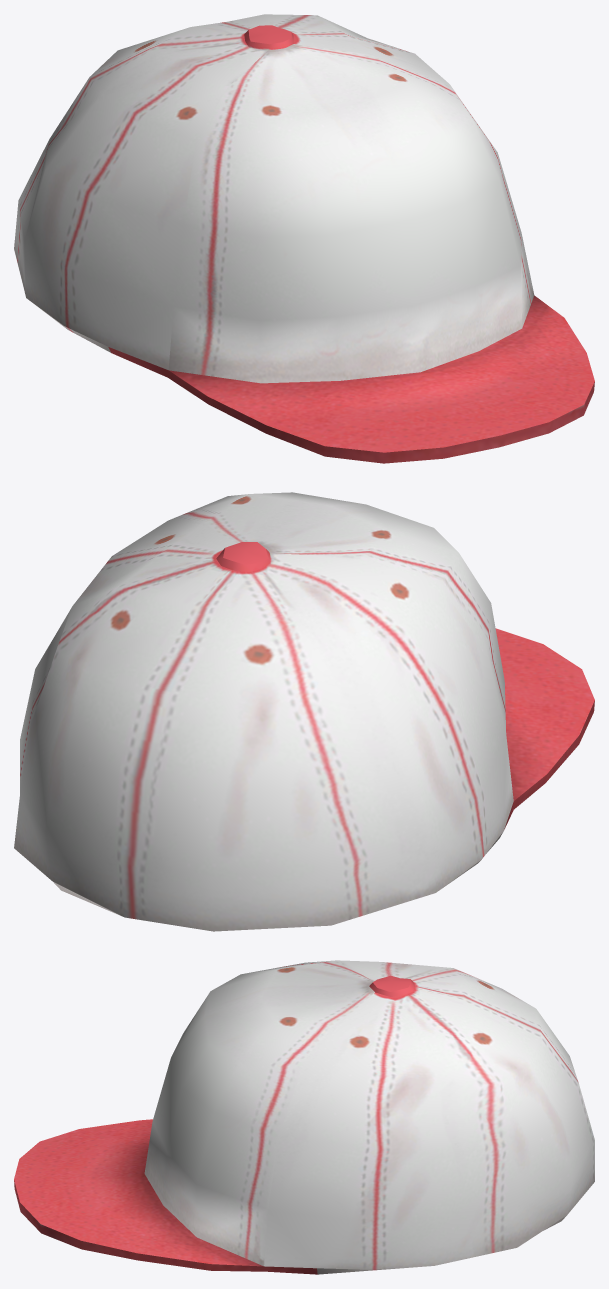
Rendered from Hat_White.fbx.
The picture shows the model from 3 angles, top to bottom: view 1: azimuth 30°, elevation 25°; view 2: azimuth 150°, elevation 25°; view 3: azimuth 270°, elevation 25°; orthographic projection. The views are drawn at different scales.
Visible parts, largest first — view 1: Hat_White; view 2: Hat_White; view 3: Hat_White.
Part boxes in pixels (x1,y1,x2,y2): Hat_White: (14,14,594,463); Hat_White: (14,492,594,931); Hat_White: (14,960,594,1274).
Bounding box in the file's own units: 0.2378 × 0.1458 × 0.3546.
